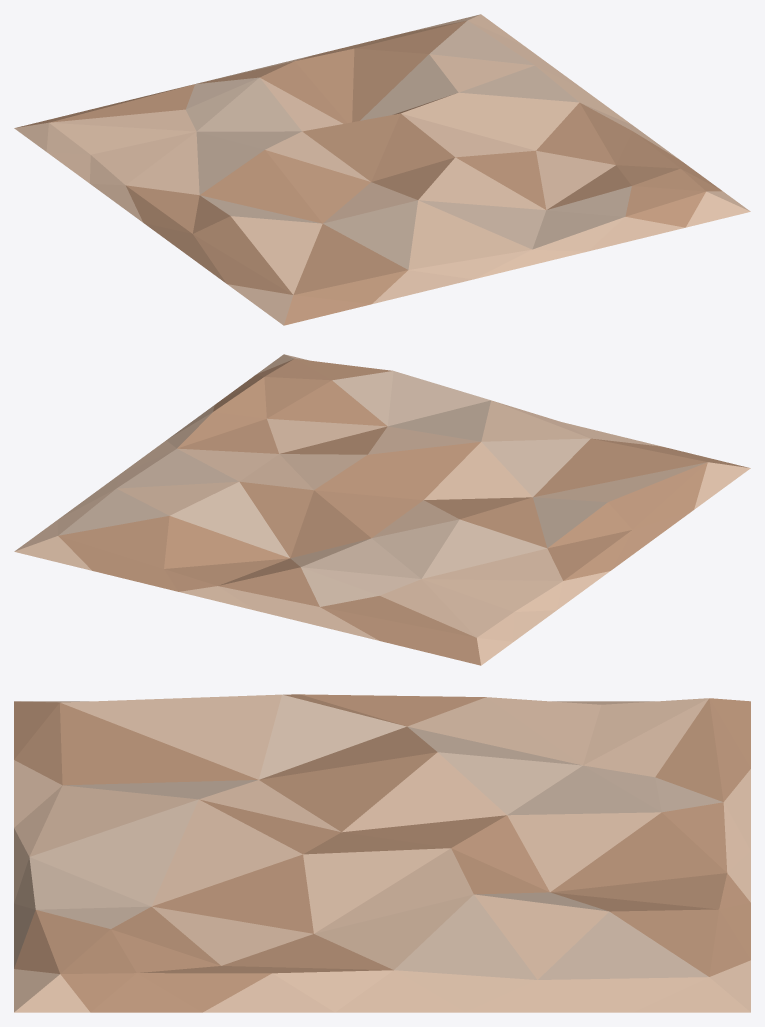
File: Rock_face.fbx
3 views of the same model, one above another, from view 1: azimuth 30°, elevation 25°; view 2: azimuth 150°, elevation 25°; view 3: azimuth 270°, elevation 25° (orthographic). The views are drawn at different scales.
Visible parts, largest first — view 1: Plane; view 2: Plane; view 3: Plane.
Boxes of the visible parts, box(x1,y1,x2,y2) form: Plane: box(14, 14, 750, 325); Plane: box(14, 354, 750, 665); Plane: box(14, 694, 750, 1012).
Size of the model in its own units: 204 by 16.74 by 204.
